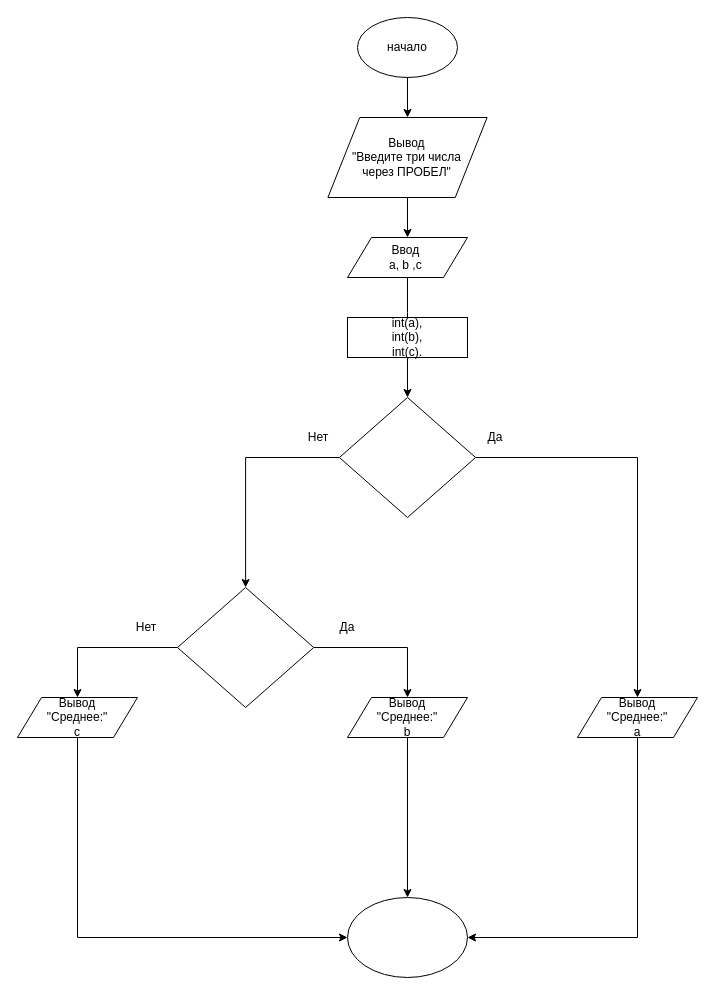
Some shapes in this 715 by 995 pixel diagram are drawn without their labels. The shapes that lost their labels are listed below. From the top down, each one's centre as x and y in pixels, then its label:
At point 407,457: "if b < a < c or c < a < b".
At point 245,647: "if a < b < c or c < b < a".
At point 407,937: "Конец".
